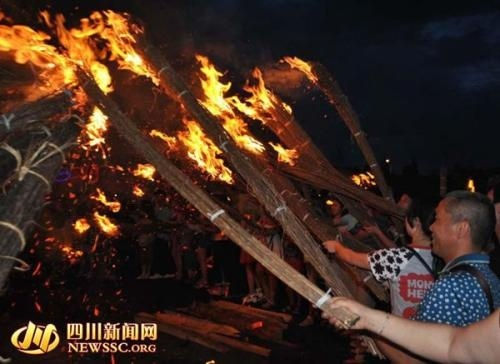fire: (0, 6, 161, 94), (195, 54, 296, 166), (151, 118, 233, 182), (281, 52, 316, 82), (272, 140, 298, 162), (351, 168, 376, 185)
